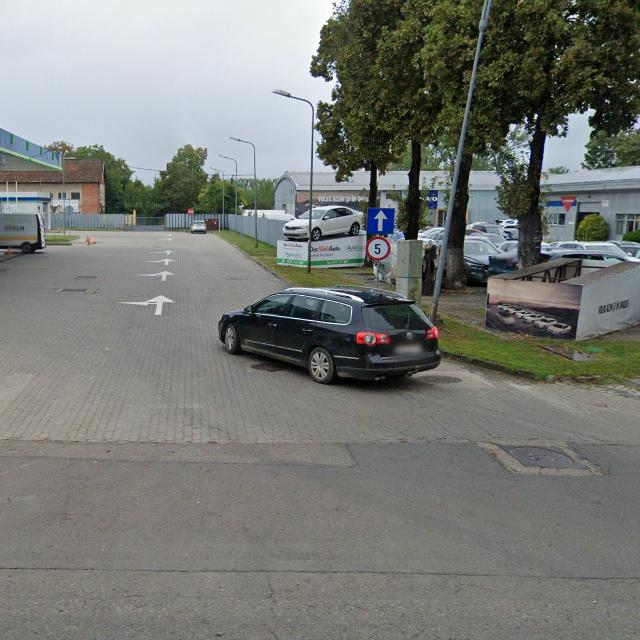forb_speed_over_5: (366, 236, 390, 260)
info_one_way_traffic: (367, 207, 395, 235)
